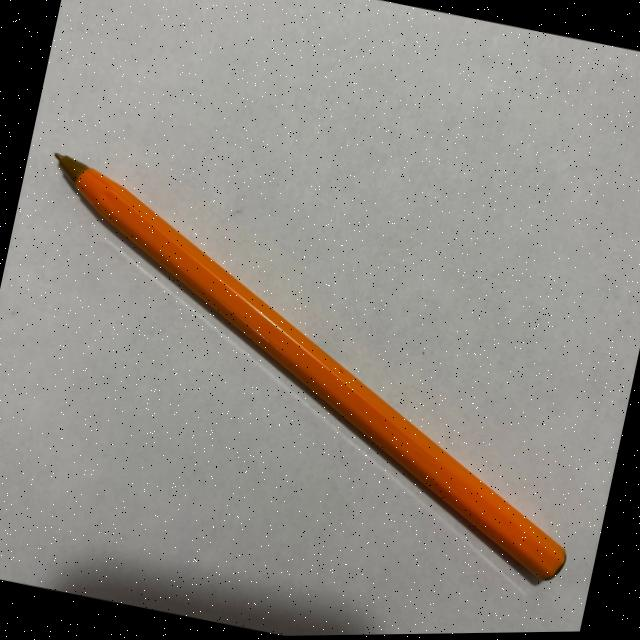pencil: (54, 155, 568, 589)
